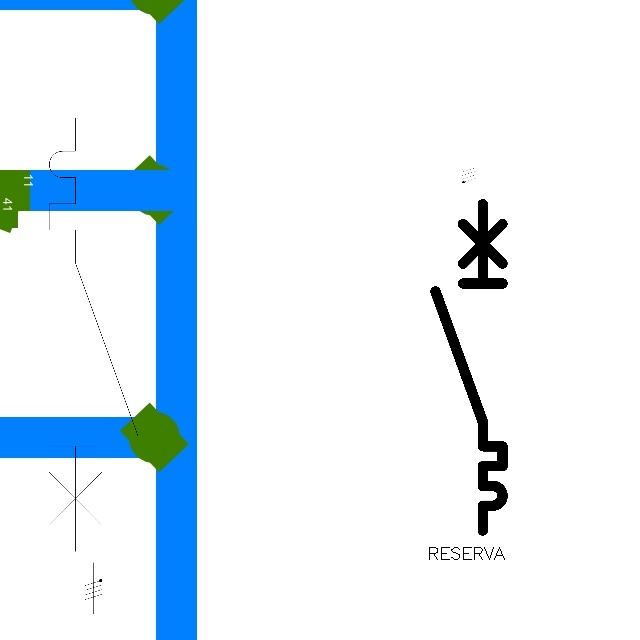interruptor_termomagnetico: (38, 107, 149, 563), (427, 195, 511, 538)
